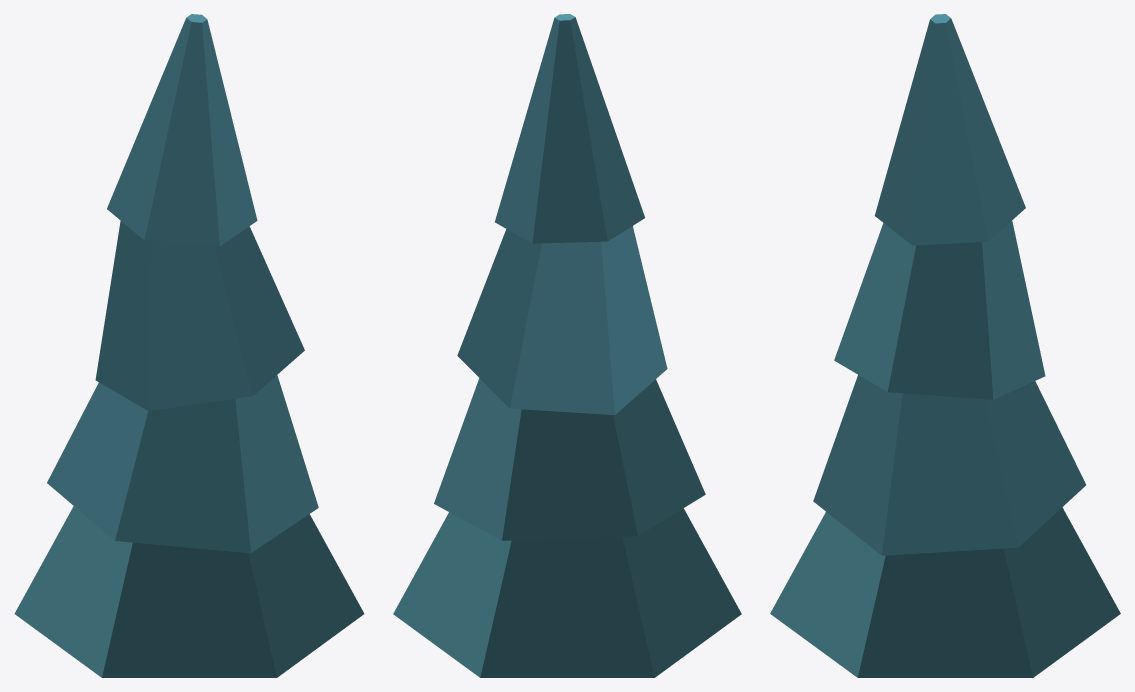
Rendered from tree_pineSmall_round1.obj.
3 renders of one model, left to right at view 1: azimuth 30°, elevation 25°; view 2: azimuth 150°, elevation 25°; view 3: azimuth 270°, elevation 25°, orthographic.
Parts seen in each view (by area): view 1: tree_pineSmall_round1; view 2: tree_pineSmall_round1; view 3: tree_pineSmall_round1.
Part boxes in pixels (<box>): tree_pineSmall_round1: <box>14,14,364,677</box>; tree_pineSmall_round1: <box>393,14,741,677</box>; tree_pineSmall_round1: <box>770,14,1120,677</box>.
Bounding box in the file's own units: 4.8 × 10.43 × 5.55.
